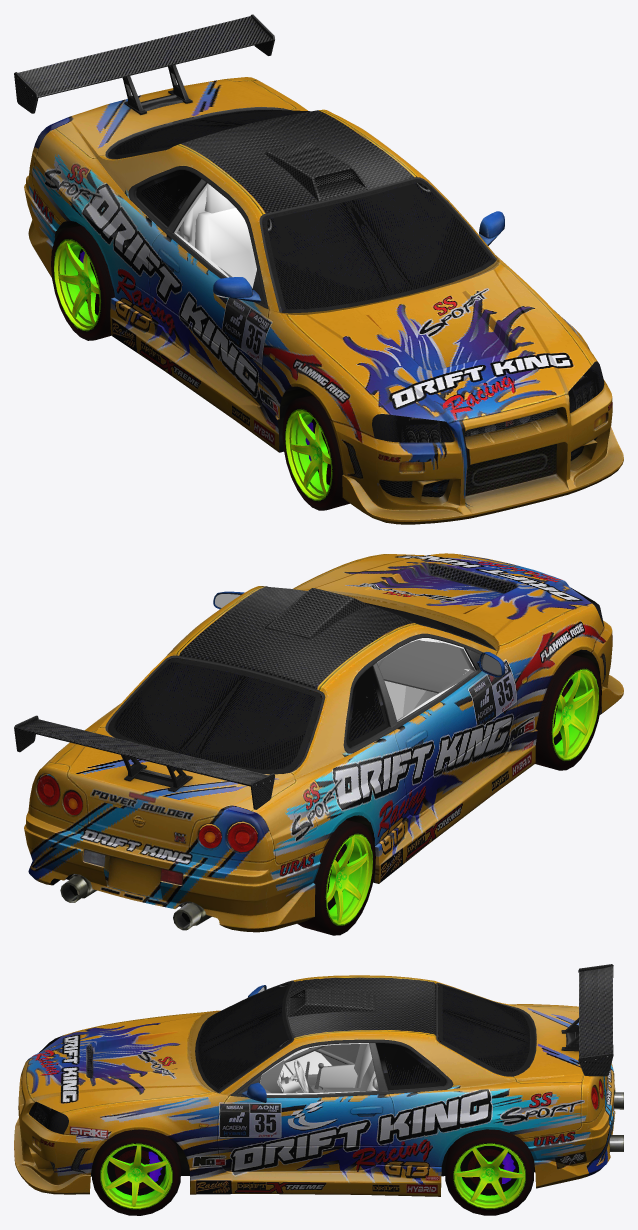
Rendered from NissanSkyline.fbx.
The picture shows the model from 3 angles, top to bottom: view 1: azimuth 30°, elevation 25°; view 2: azimuth 150°, elevation 25°; view 3: azimuth 270°, elevation 25°; orthographic projection. The views are drawn at different scales.
Parts seen in each view (by area): view 1: Skyline_Body, Skyline_Glass, Wheel_Rear_Right, Wheel_Front_Right, Interior_lo; view 2: Skyline_Body, Skyline_Glass, Wheel_Front_Right, Wheel_Rear_Right, Skyline_Interior, Skyline_Headlights, Interior_lo; view 3: Skyline_Body, Skyline_Glass, Wheel_Rear_Left, Wheel_Front_Left, Interior_lo, Skyline_Interior, skyline_seats.
Boxes of the visible parts, x1,y1,x2,y2 form: Skyline_Body: (14,14,623,524); Skyline_Glass: (114,109,604,442); Wheel_Rear_Right: (51,225,114,340); Wheel_Front_Right: (282,395,349,510); Interior_lo: (174,183,256,288); Skyline_Body: (14,553,623,932); Skyline_Glass: (114,587,604,769); Wheel_Front_Right: (535,655,601,770); Wheel_Rear_Right: (297,820,375,935); Skyline_Interior: (366,640,475,697); Skyline_Headlights: (37,775,257,852); Interior_lo: (377,638,473,721); Skyline_Body: (14,964,623,1196); Skyline_Glass: (29,983,530,1134); Wheel_Rear_Left: (445,1129,533,1215); Wheel_Front_Left: (92,1129,180,1215); Interior_lo: (260,1043,378,1094); Skyline_Interior: (260,1044,359,1093); skyline_seats: (314,1063,378,1090).
Bounding box in the file's own units: 1.95 × 1.44 × 4.62.
